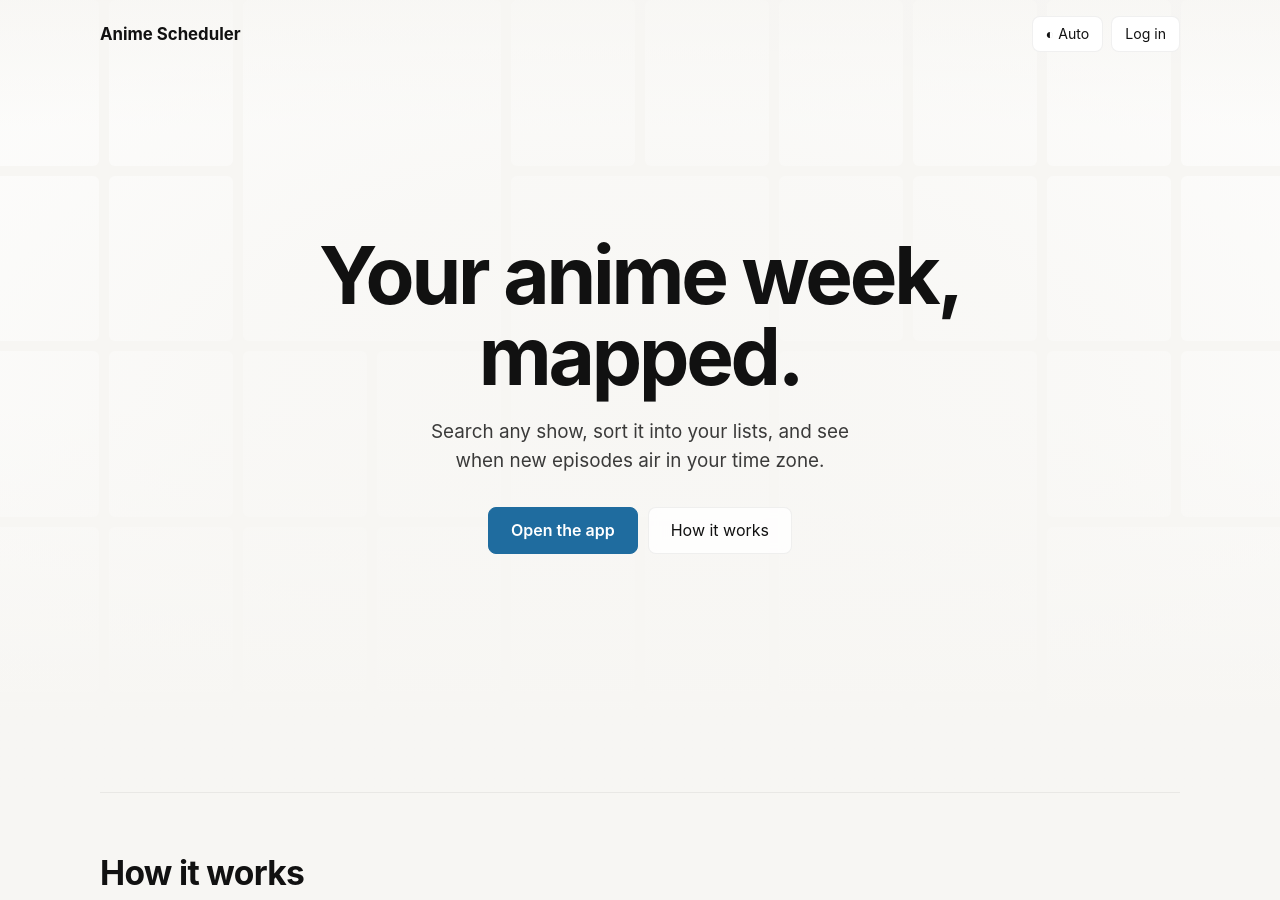
Scenario: App — search flow (D5/D7) › search → pick a result → it appears in the bucket
Click the button "Open the app" at (563, 531), box [488,507,638,554]
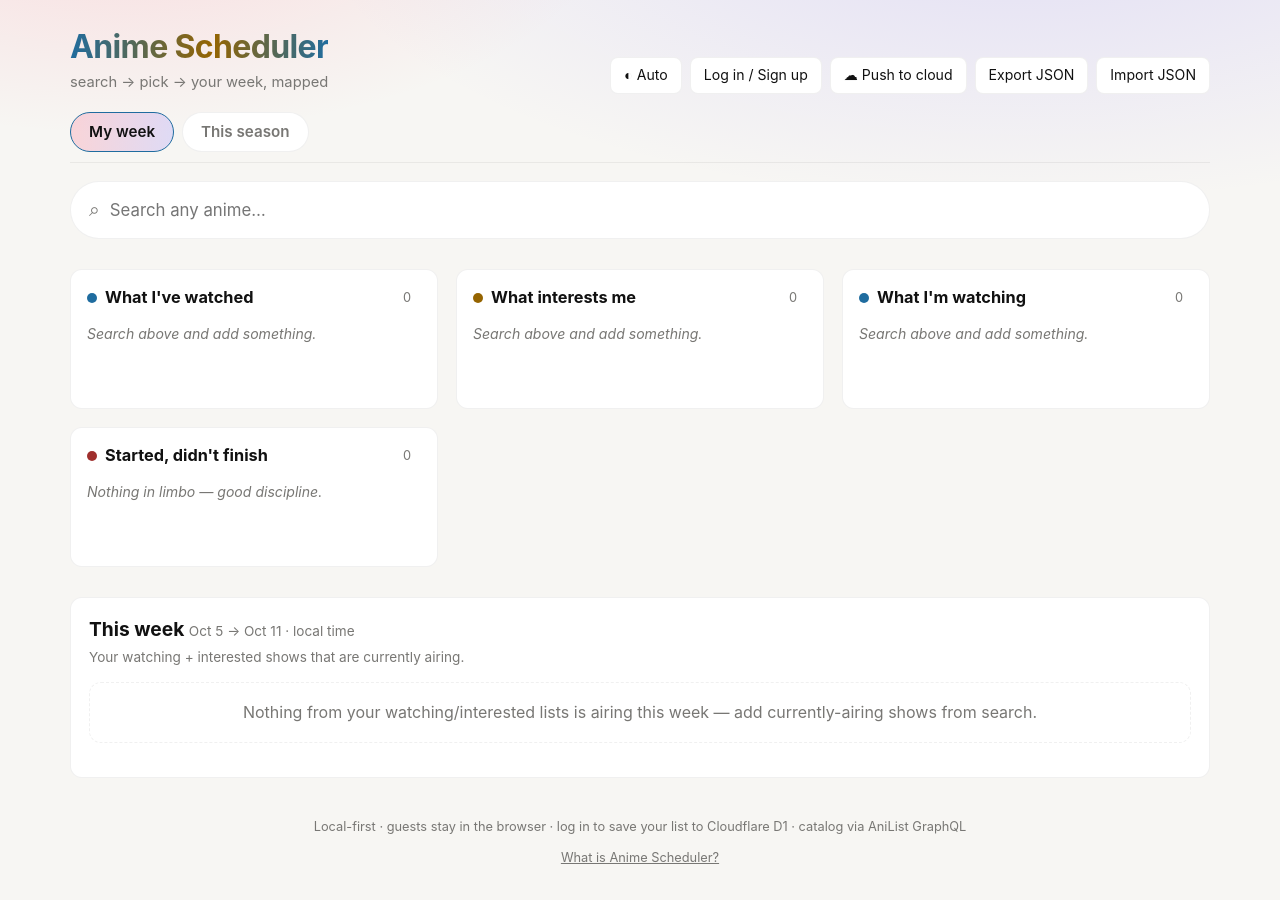
Type "show" into the search field named "Search anime" at (650, 210), box [110,188,1191,232]
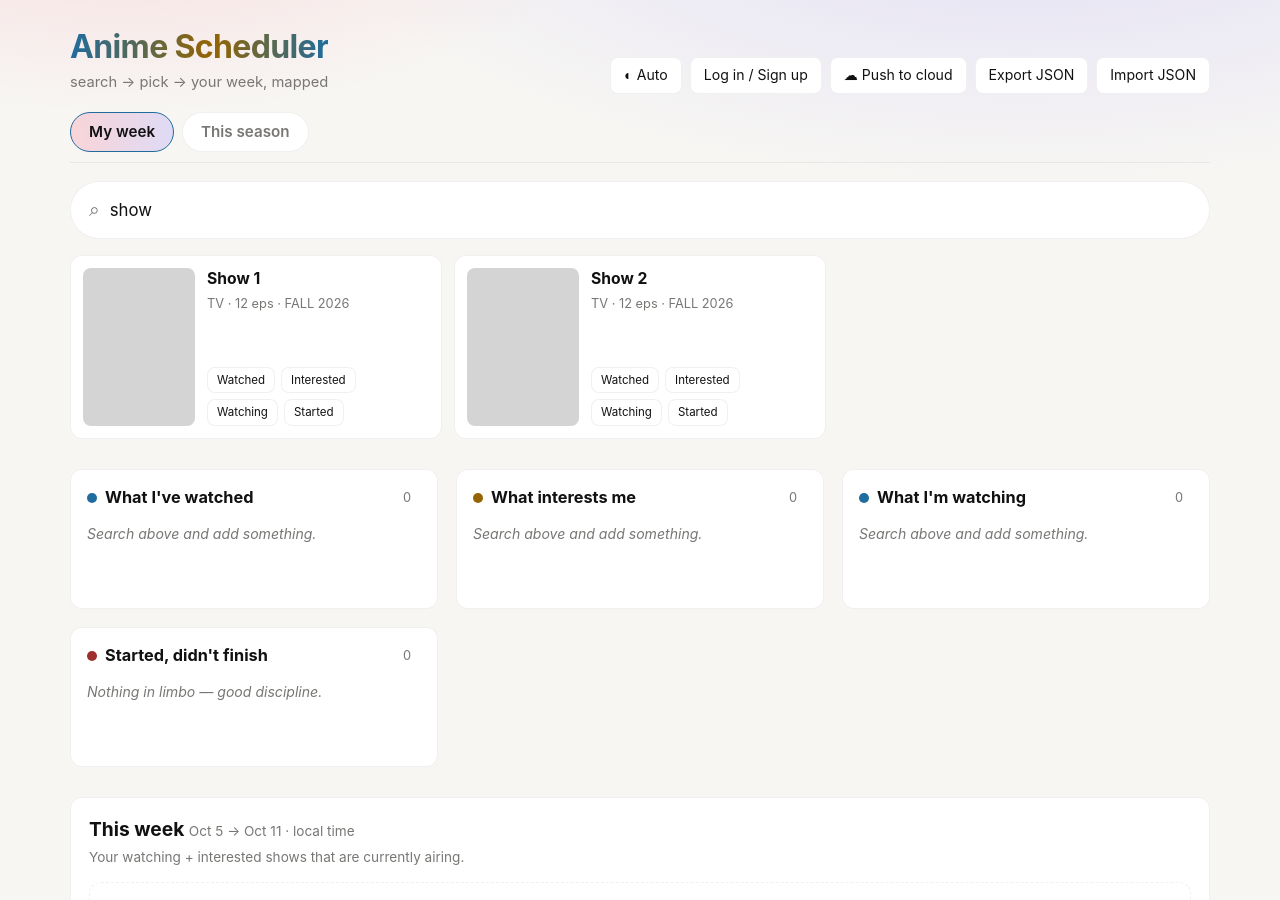
Click the button with aria-label "Add Show 1 to What interests me" at (318, 380), box [281,367,356,393]
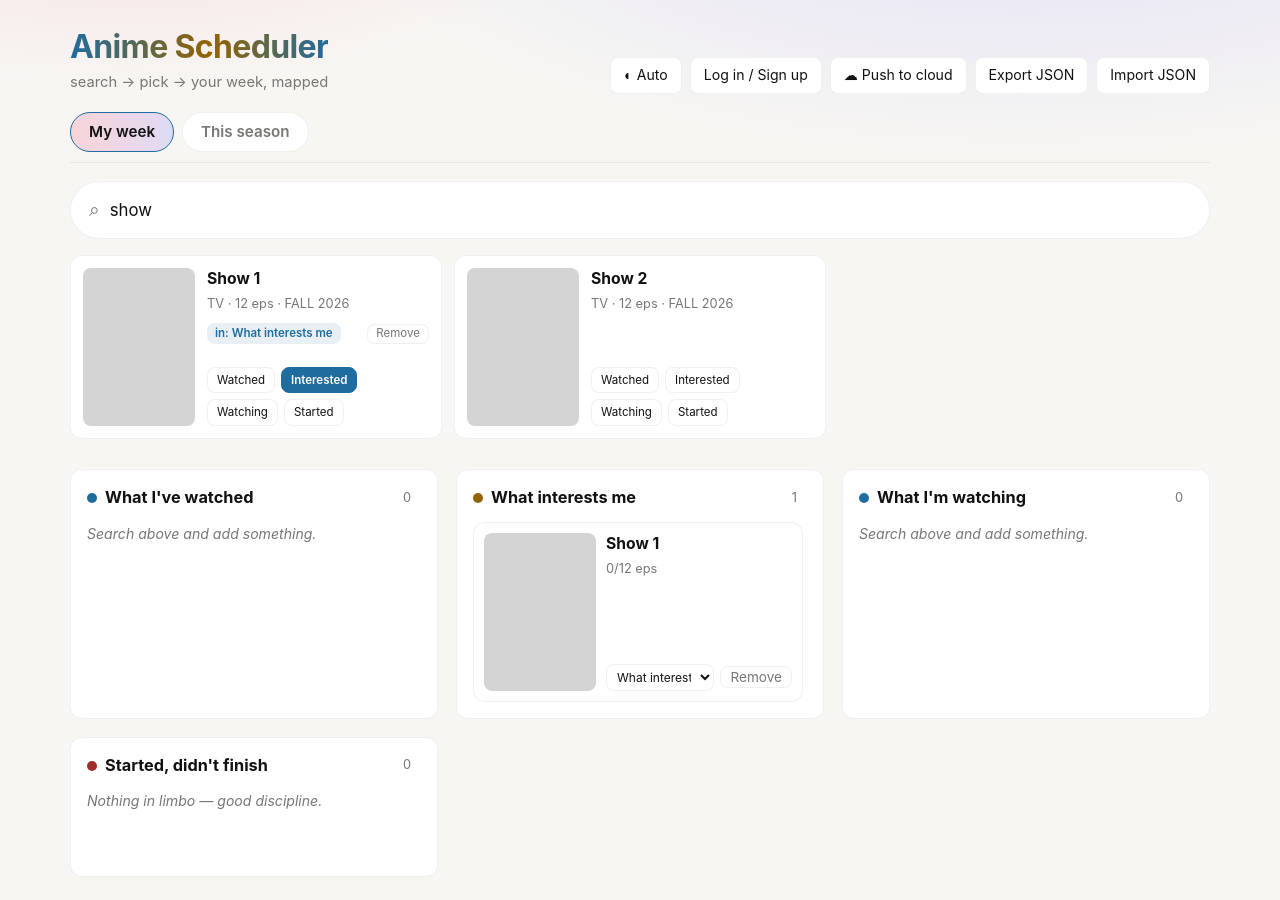
Result: the heading "Show 1" below "What I'm watching" is shown at [606,534,659,553]
Result: the text "0/12 eps" is shown at [606,562,657,576]
